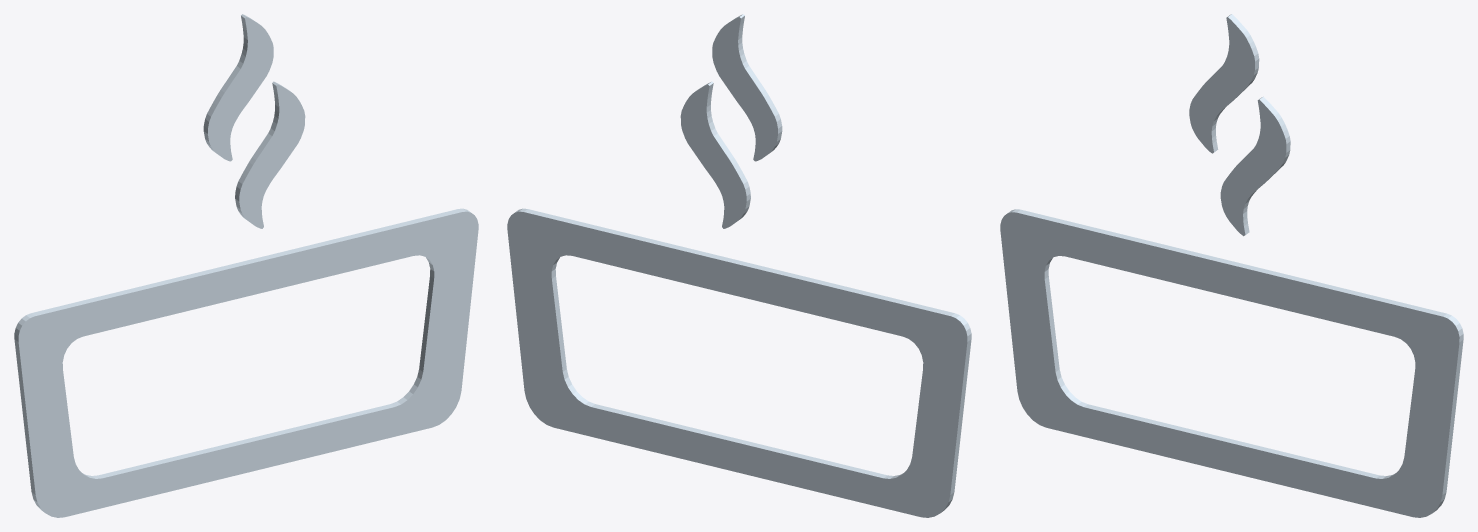
Rendered from Food_3D_Icon_04.fbx.
3 renders of one model, left to right at view 1: azimuth 30°, elevation 25°; view 2: azimuth 150°, elevation 25°; view 3: azimuth 330°, elevation 25°, orthographic.
Visible parts, largest first — view 1: Food_3D_Icon_04; view 2: Food_3D_Icon_04; view 3: Food_3D_Icon_04.
Boxes of the visible parts, x1,y1,x2,y2 form: Food_3D_Icon_04: (14, 14, 478, 517); Food_3D_Icon_04: (507, 14, 971, 517); Food_3D_Icon_04: (1000, 14, 1463, 517).
Bounding box in the file's own units: 128 × 121 × 2.
